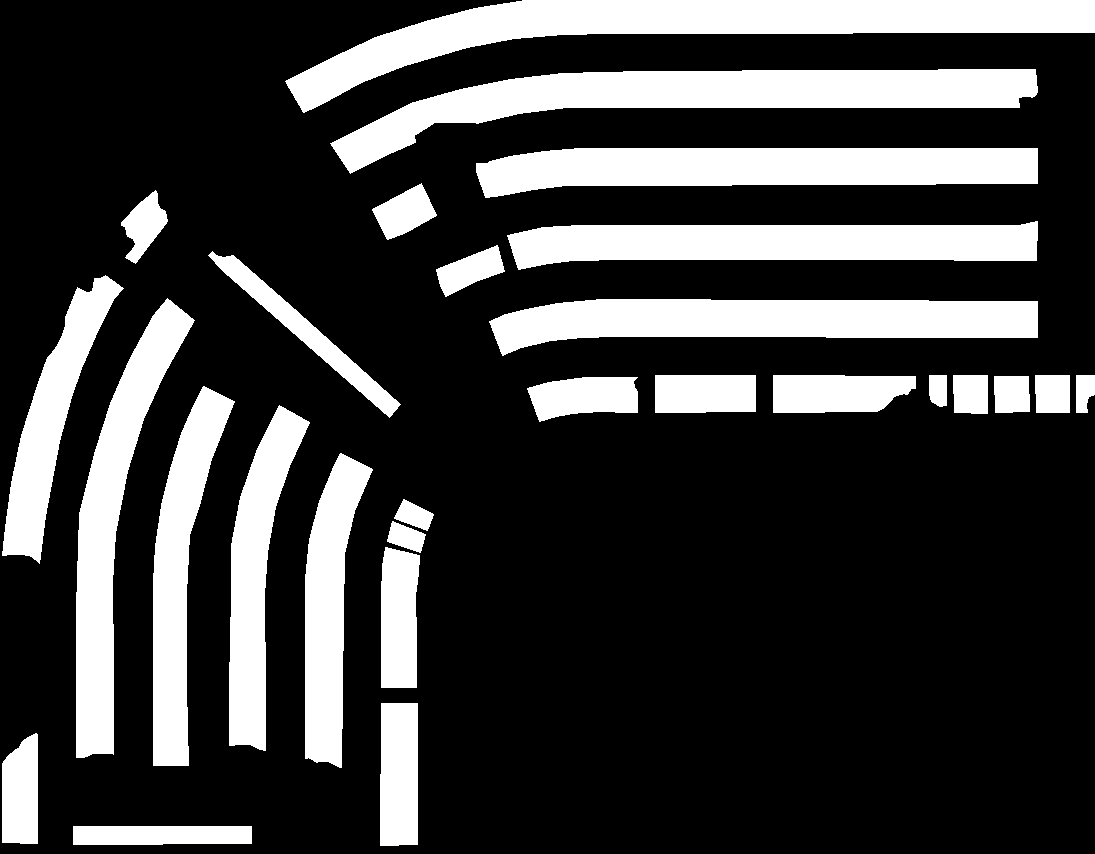parkingspot: (285, 0, 1094, 112), (330, 69, 1037, 173), (76, 298, 194, 757), (2, 275, 123, 563), (208, 251, 400, 417), (153, 386, 234, 765), (489, 299, 1037, 355), (229, 405, 309, 750), (476, 148, 1037, 197), (507, 221, 1037, 269), (305, 453, 372, 767), (381, 547, 419, 687), (380, 703, 417, 845), (773, 375, 915, 412), (527, 377, 637, 421), (2, 733, 37, 843), (655, 375, 755, 412), (372, 183, 436, 239), (436, 245, 504, 296), (121, 190, 167, 263), (73, 826, 251, 844), (953, 375, 987, 413), (994, 376, 1029, 412), (1035, 375, 1069, 412), (394, 499, 433, 530), (387, 521, 425, 552), (1076, 375, 1095, 412), (929, 375, 946, 406)
